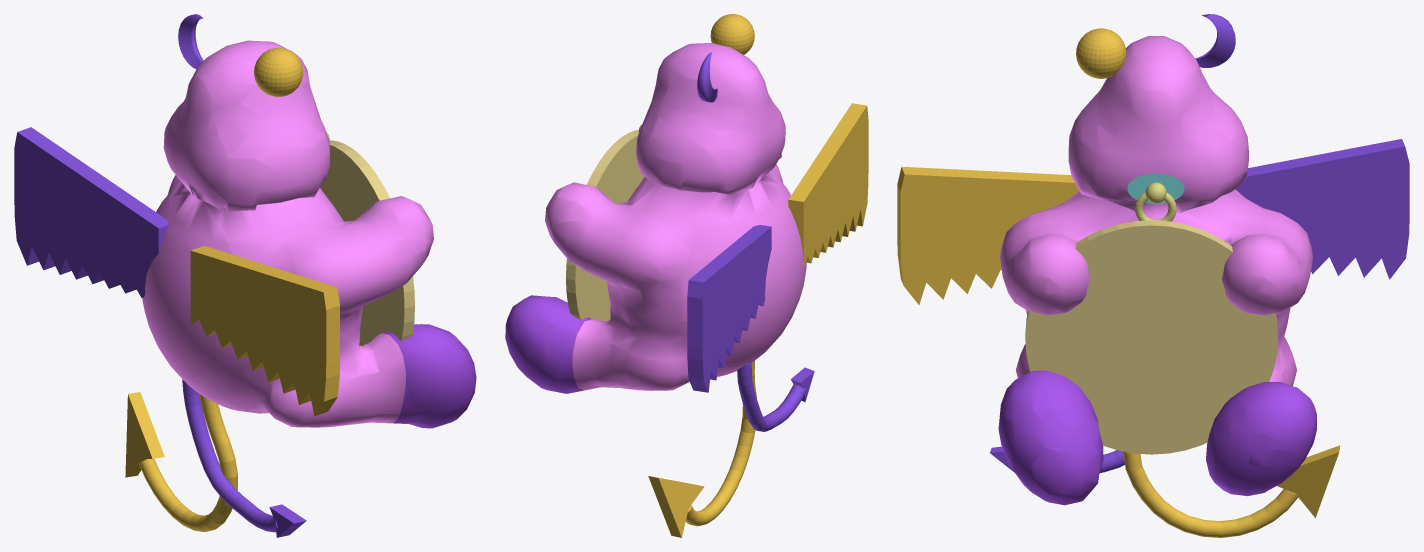
Rendered from sigu.fbx.
The picture shows the model from 3 angles, left to right: view 1: azimuth 30°, elevation 25°; view 2: azimuth 150°, elevation 25°; view 3: azimuth 270°, elevation 25°; orthographic projection. The views are drawn at different scales.
Visible parts, largest first — view 1: karada, hane, hane.001, tokei, sippo1, sippo, yazirusi, mimi, mimi2, yazirusi.001; view 2: karada, hane.001, hane, tokei, sippo1, sippo, yazirusi, mimi, mimi2; view 3: karada, tokei, hane.001, hane, sippo1, mimi, yazirusi, mimi2, osyaburi.002.
Boxes of the visible parts, <box> form: karada: <box>142,40,476,428</box>; hane: <box>190,245,339,416</box>; hane.001: <box>14,127,168,297</box>; tokei: <box>320,140,414,345</box>; sippo1: <box>138,393,237,531</box>; sippo: <box>182,379,277,532</box>; yazirusi: <box>125,392,164,477</box>; mimi: <box>254,47,302,96</box>; mimi2: <box>178,14,203,69</box>; yazirusi.001: <box>269,504,306,537</box>; karada: <box>505,43,806,393</box>; hane.001: <box>687,225,771,392</box>; hane: <box>788,103,868,268</box>; tokei: <box>566,130,644,321</box>; sippo1: <box>685,360,756,526</box>; sippo: <box>737,361,806,431</box>; yazirusi: <box>648,476,704,537</box>; mimi: <box>710,14,754,54</box>; mimi2: <box>697,52,717,102</box>; karada: <box>998,36,1316,505</box>; tokei: <box>1025,220,1277,454</box>; hane.001: <box>1235,139,1409,279</box>; hane: <box>897,166,1079,304</box>; sippo1: <box>1123,451,1298,537</box>; mimi: <box>1076,28,1126,78</box>; yazirusi: <box>1277,445,1340,517</box>; mimi2: <box>1195,14,1235,67</box>; osyaburi.002: <box>1127,173,1184,203</box>.
Bounding box in the file's own units: 12.16 × 13.78 × 7.97.
